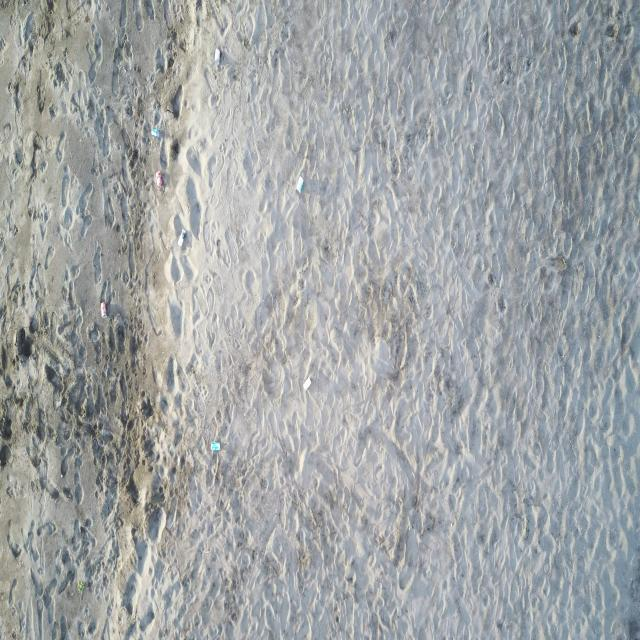Garbage: (16, 327, 32, 357), (178, 228, 186, 247), (155, 169, 163, 188), (296, 176, 303, 192), (213, 48, 220, 64), (100, 300, 107, 316), (151, 127, 160, 138), (303, 376, 310, 390), (211, 440, 219, 451), (76, 580, 83, 591)
